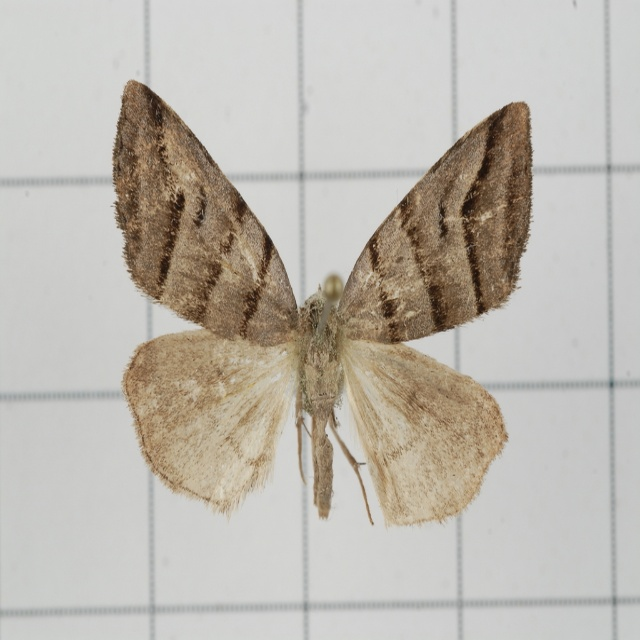Moths and butterflies: (111, 76, 534, 524)
